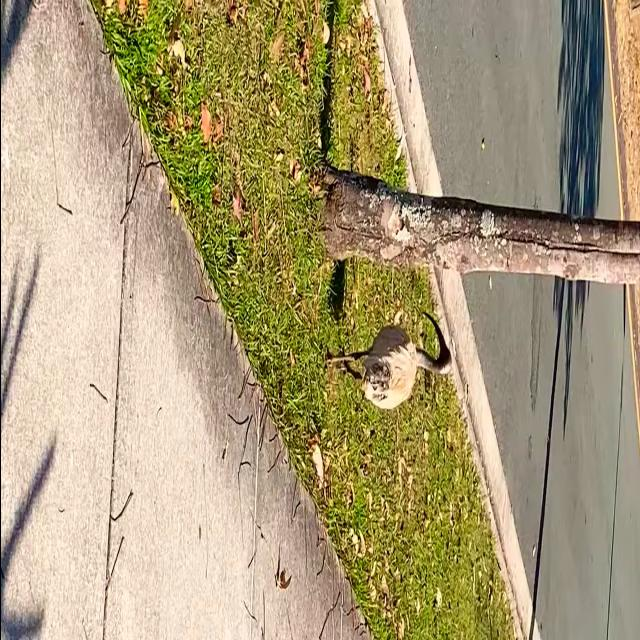Birds-Ibis: (321, 304, 457, 416)
